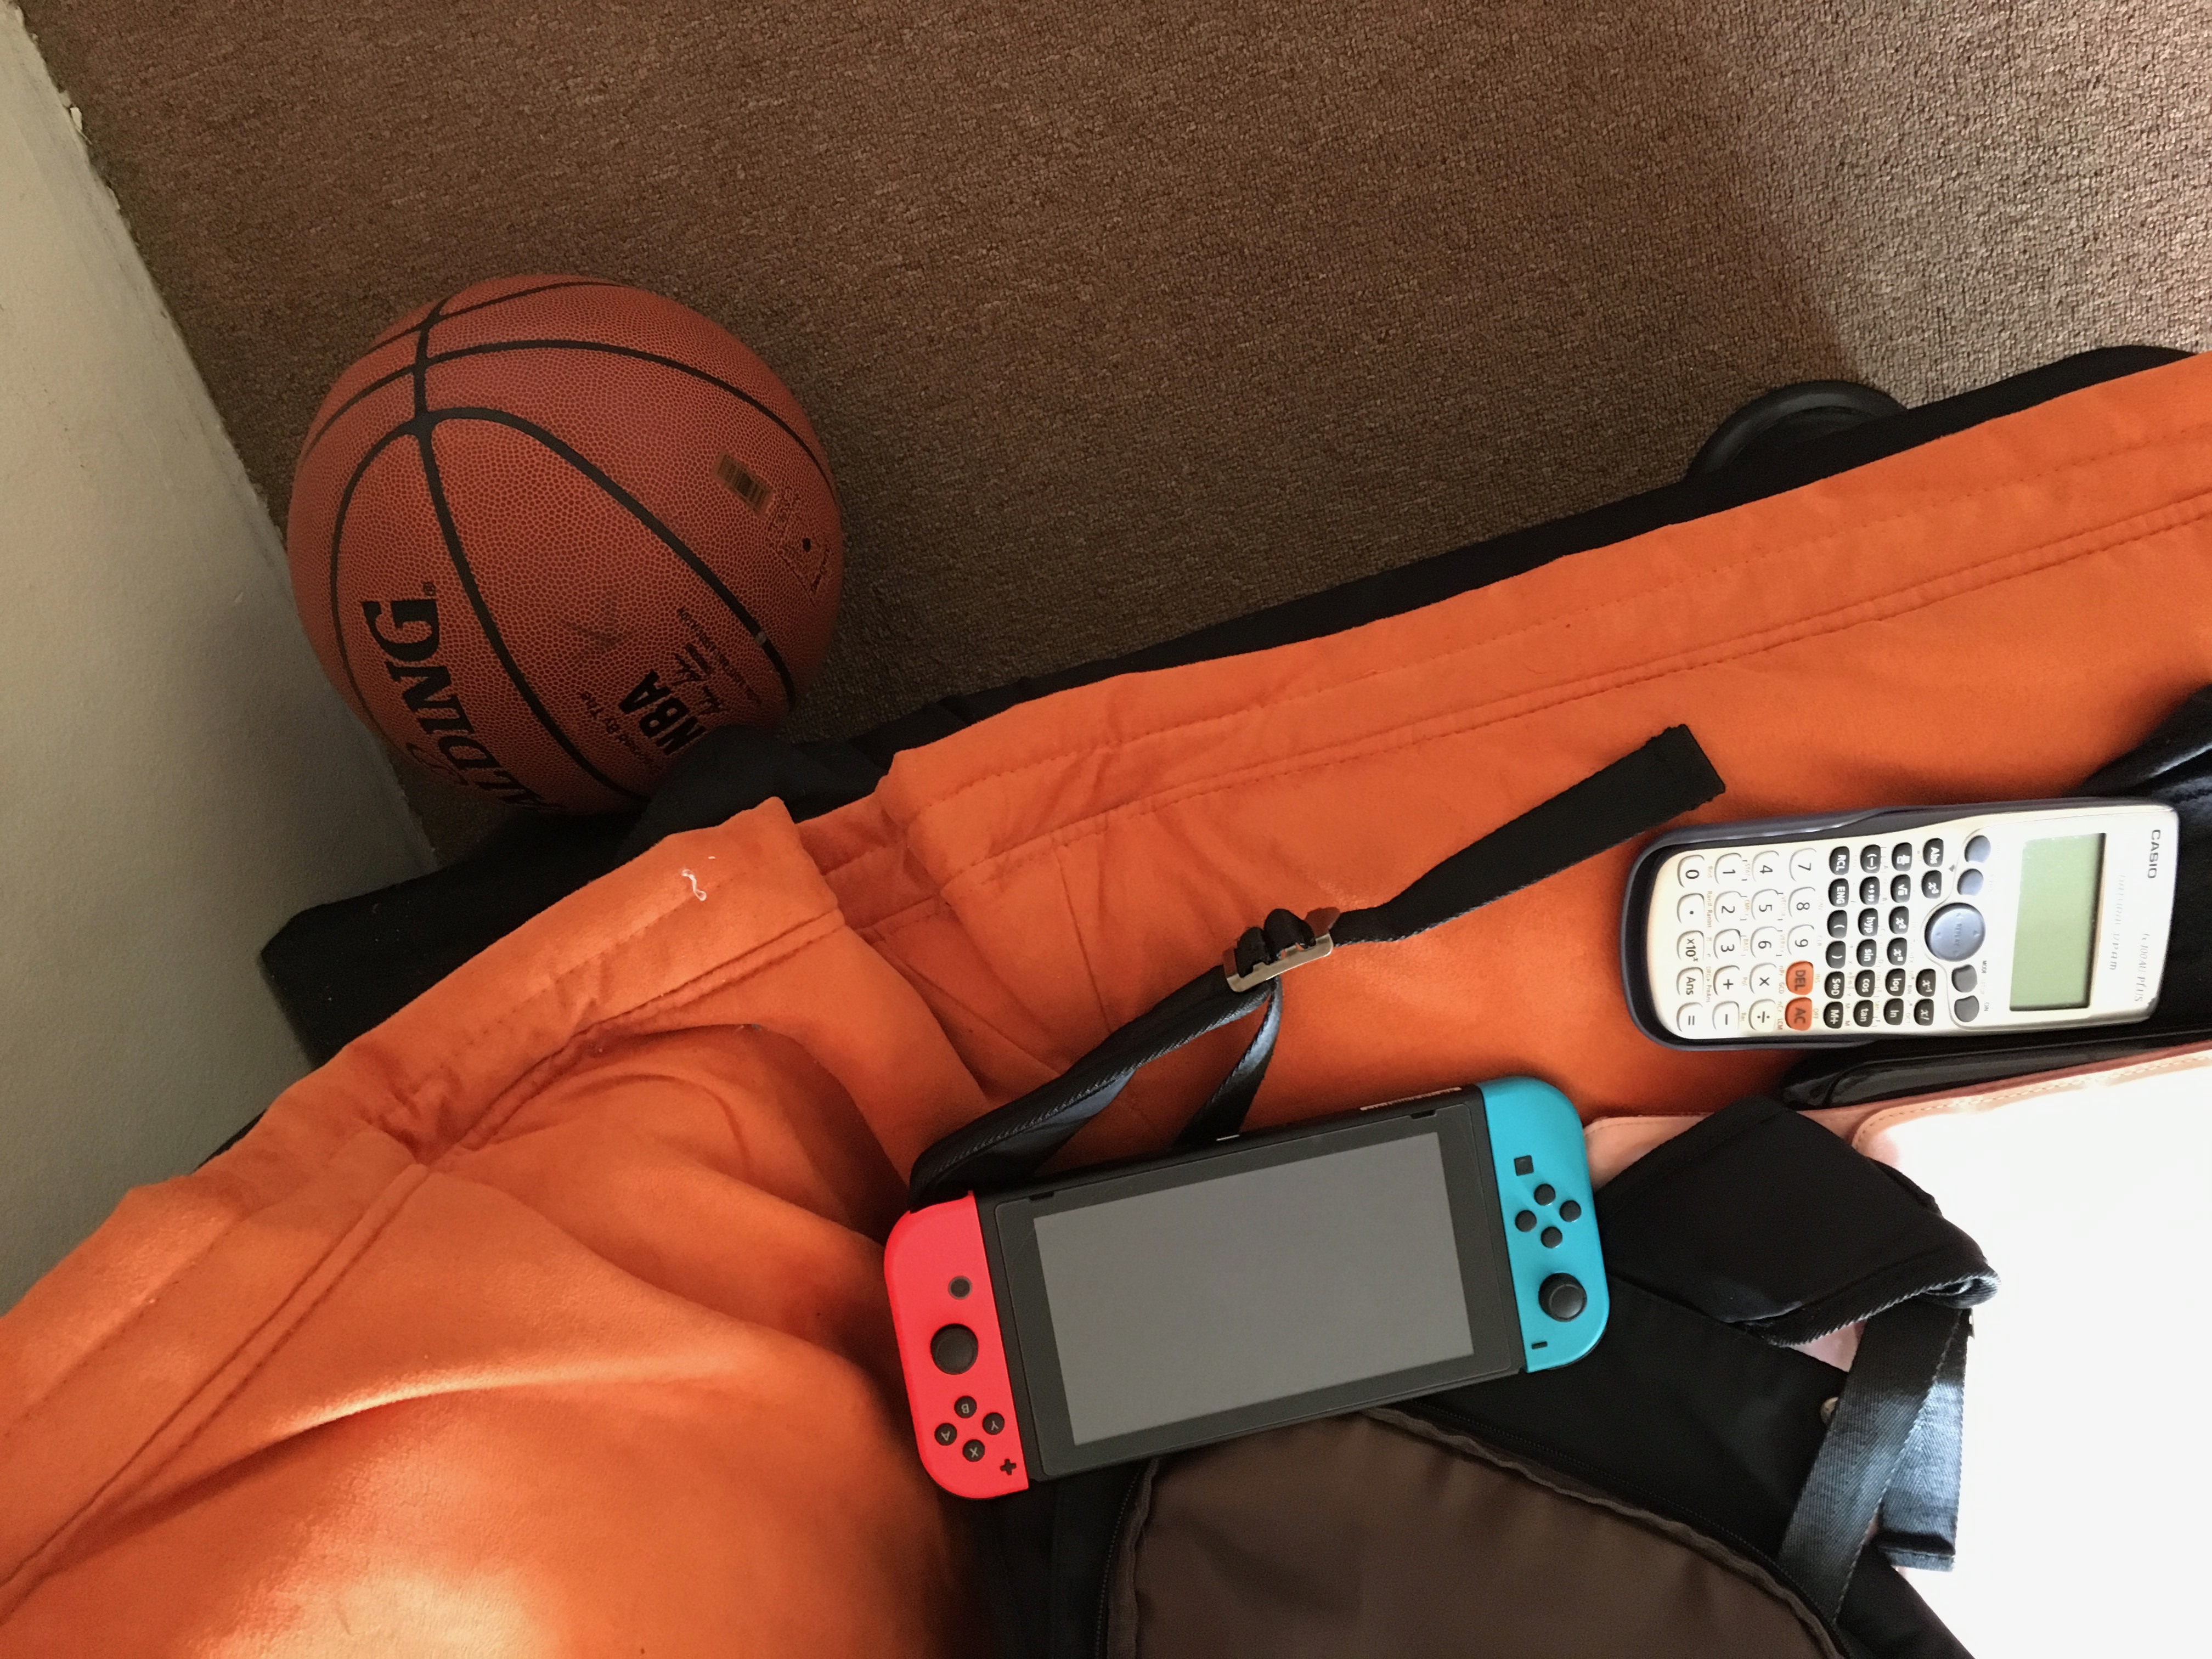Basketball: (275, 258, 859, 798)
Calculator: (1604, 786, 2186, 1065)
NintendoSwitch: (869, 1063, 1620, 1507)
